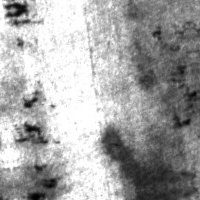inclusion: (162, 63, 199, 132)
patches: (100, 113, 191, 192)
